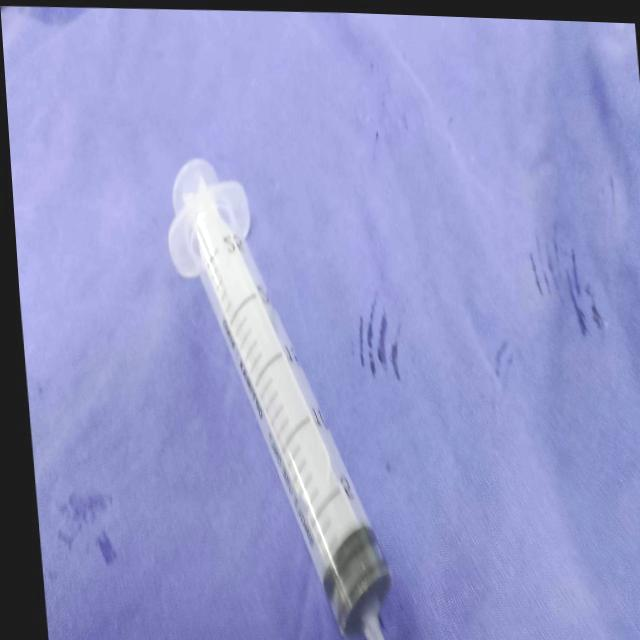Sharps: (166, 156, 393, 639)
